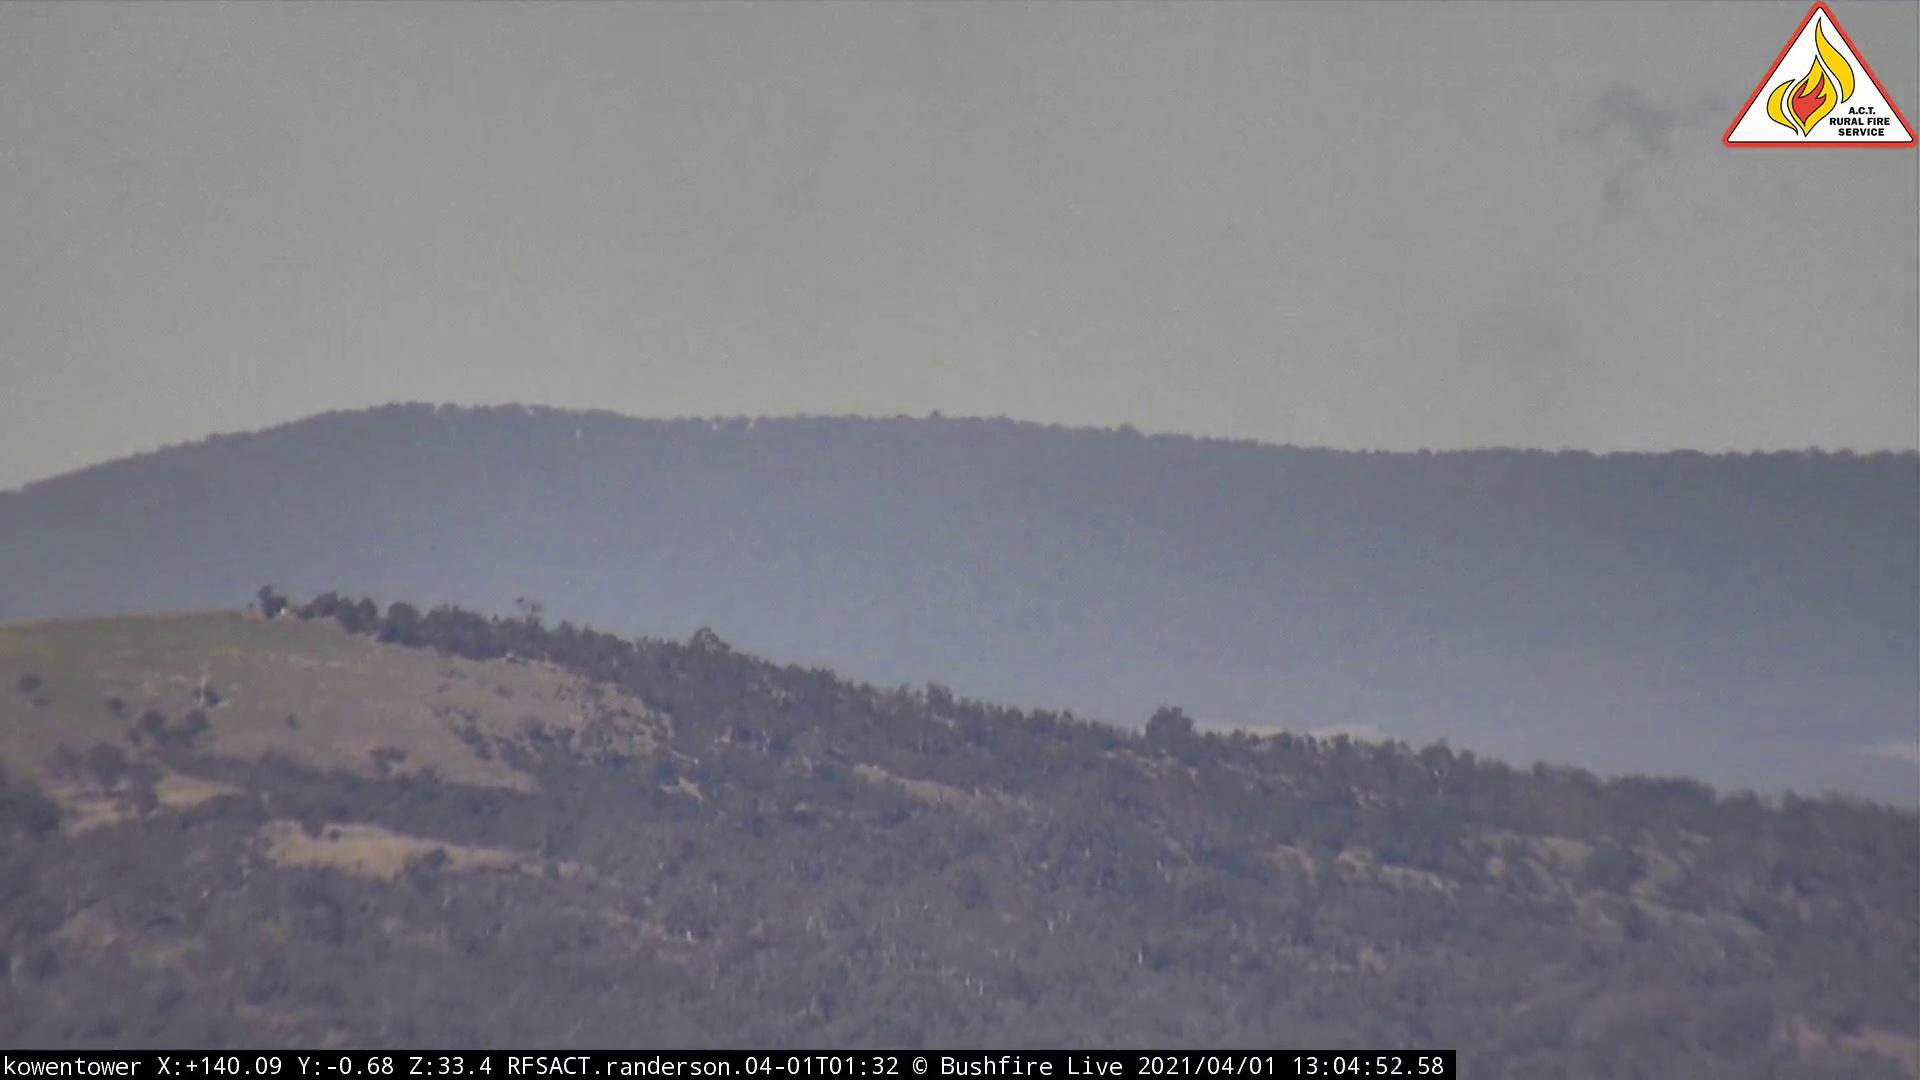instance_salient_object: (1419, 53, 1716, 419)
